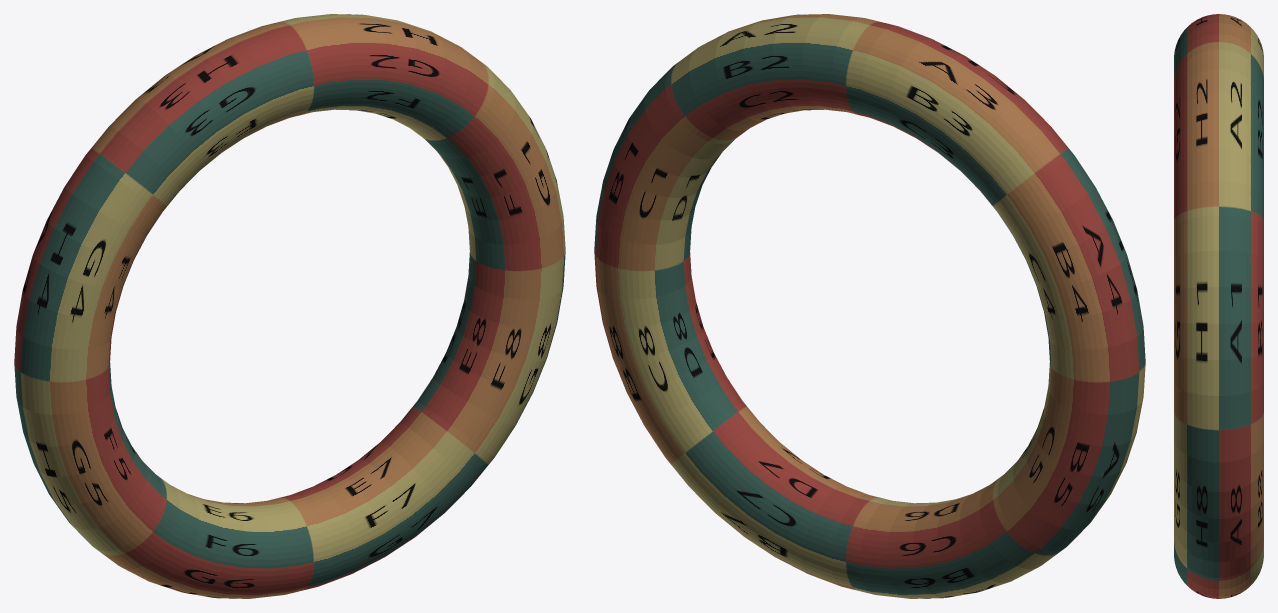
Rendered from texture_torus_R30_r13.glb.
The picture shows the model from 3 angles, left to right: view 1: azimuth 30°, elevation 25°; view 2: azimuth 150°, elevation 25°; view 3: azimuth 270°, elevation 25°; orthographic projection. The views are drawn at different scales.
Visible parts, largest first — view 1: world; view 2: world; view 3: world.
Boxes of the visible parts, x1,y1,x2,y2 form: world: [14, 14, 565, 598]; world: [594, 14, 1145, 598]; world: [1174, 14, 1263, 598].
Bounding box in the file's own units: 35.47 × 35.4 × 5.46.
Materials: 1 (1 with a texture image).
